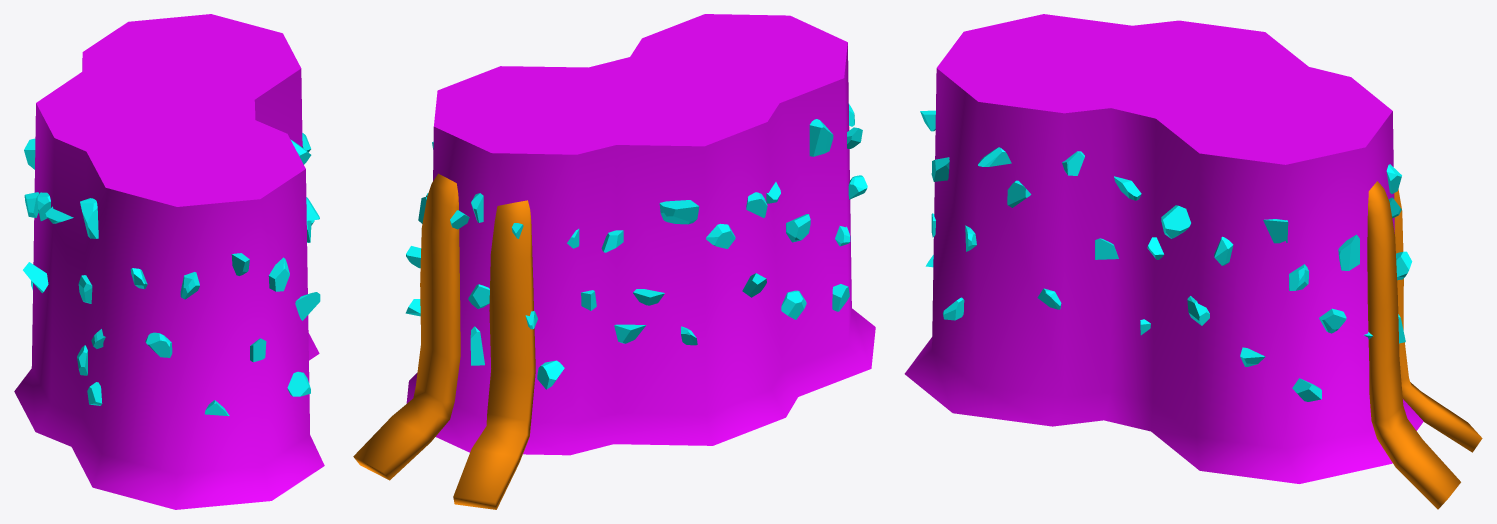
The model's file is Pilar LP 2.fbx.
The picture shows the model from 3 angles, left to right: view 1: azimuth 30°, elevation 25°; view 2: azimuth 150°, elevation 25°; view 3: azimuth 270°, elevation 25°; orthographic projection. The views are drawn at different scales.
Visible parts, largest first — view 1: Pilar LP 2; view 2: Pilar LP 2; view 3: Pilar LP 2.
Part boxes in pixels (<box>): Pilar LP 2: <box>14,14,324,509</box>; Pilar LP 2: <box>353,14,875,509</box>; Pilar LP 2: <box>904,14,1482,509</box>.
Size of the model in its own units: 693 by 645 by 980.
